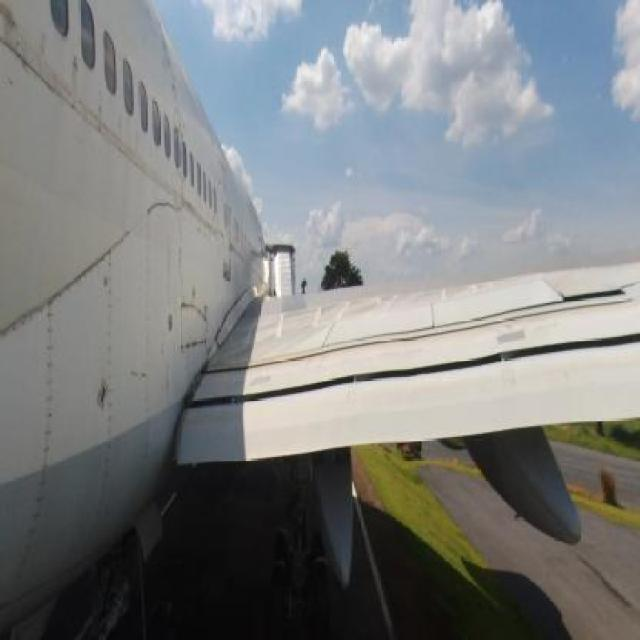Missing-Rivet: (15, 227, 130, 336), (102, 256, 121, 473), (39, 296, 53, 542), (178, 325, 211, 358)
Rust: (3, 1, 40, 79), (164, 184, 202, 224)
Scartch: (161, 38, 184, 122), (191, 287, 218, 316), (65, 56, 84, 90)
